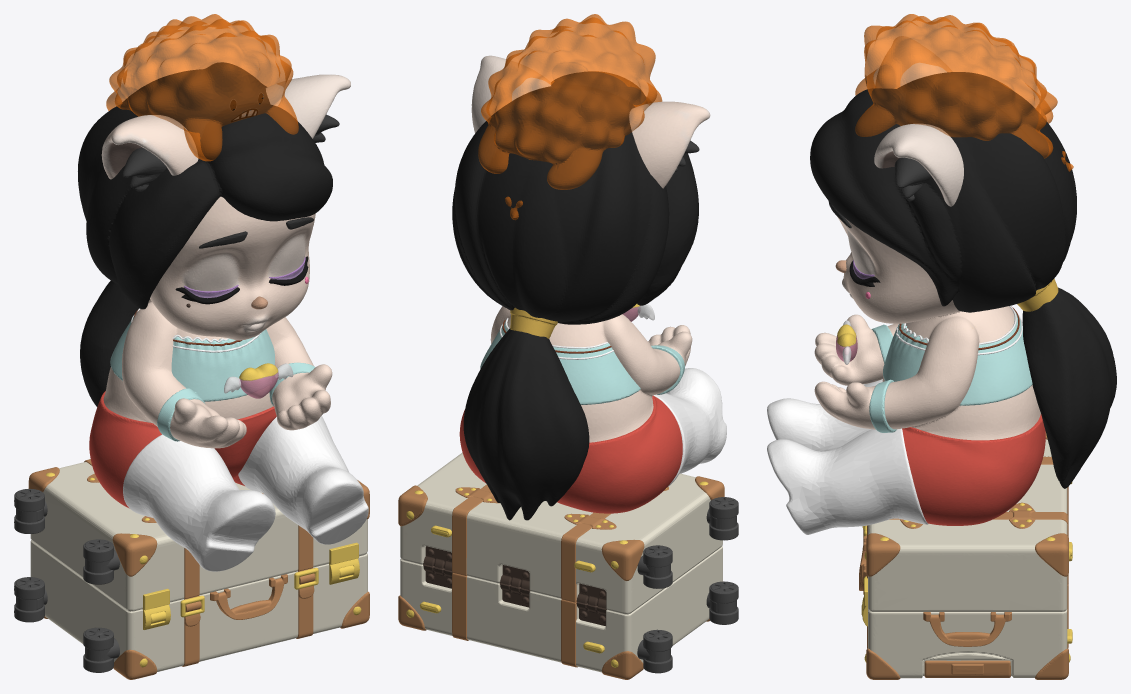
The model's file is new_showcase8.glb.
3 views of the same model, side by side, from view 1: azimuth 30°, elevation 25°; view 2: azimuth 150°, elevation 25°; view 3: azimuth 270°, elevation 25° (orthographic). The views are drawn at different scales.
Visible parts, largest first — view 1: NFT Rare Hair 7 ★, Classic_CreamBrown, Whitepink_Puremakeup, NFT Unique Shoes 4, Top_Shirring_Mint, Skiny_Red, NFT Rare Heart, Purple Black; view 2: NFT Rare Hair 7 ★, Classic_CreamBrown, Whitepink_Puremakeup, Skiny_Red, NFT Unique Shoes 4, Top_Shirring_Mint; view 3: NFT Rare Hair 7 ★, Classic_CreamBrown, Whitepink_Puremakeup, NFT Unique Shoes 4, Skiny_Red, Top_Shirring_Mint, NFT Rare Heart.
Part boxes in pixels (x1,y1,x2,y2): NFT Rare Hair 7 ★: [78, 14, 339, 406]; Classic_CreamBrown: [14, 459, 369, 679]; Whitepink_Puremakeup: [101, 74, 350, 448]; NFT Unique Shoes 4: [123, 415, 368, 571]; Top_Shirring_Mint: [110, 308, 315, 441]; Skiny_Red: [89, 391, 276, 508]; NFT Rare Heart: [224, 363, 293, 398]; Purple Black: [175, 256, 308, 304]; NFT Rare Hair 7 ★: [452, 14, 699, 520]; Classic_CreamBrown: [398, 452, 738, 679]; Whitepink_Puremakeup: [471, 55, 710, 442]; Skiny_Red: [459, 395, 682, 513]; NFT Unique Shoes 4: [653, 368, 726, 487]; Top_Shirring_Mint: [480, 318, 684, 404]; NFT Rare Hair 7 ★: [810, 14, 1116, 488]; Classic_CreamBrown: [859, 432, 1072, 679]; Whitepink_Puremakeup: [814, 36, 1040, 440]; NFT Unique Shoes 4: [767, 379, 927, 534]; Skiny_Red: [902, 414, 1045, 525]; Top_Shirring_Mint: [869, 305, 1032, 432]; NFT Rare Heart: [836, 320, 857, 364].
Bounding box in the file's own units: 43.74 × 91.68 × 48.28.
11 materials, 1 textured.
